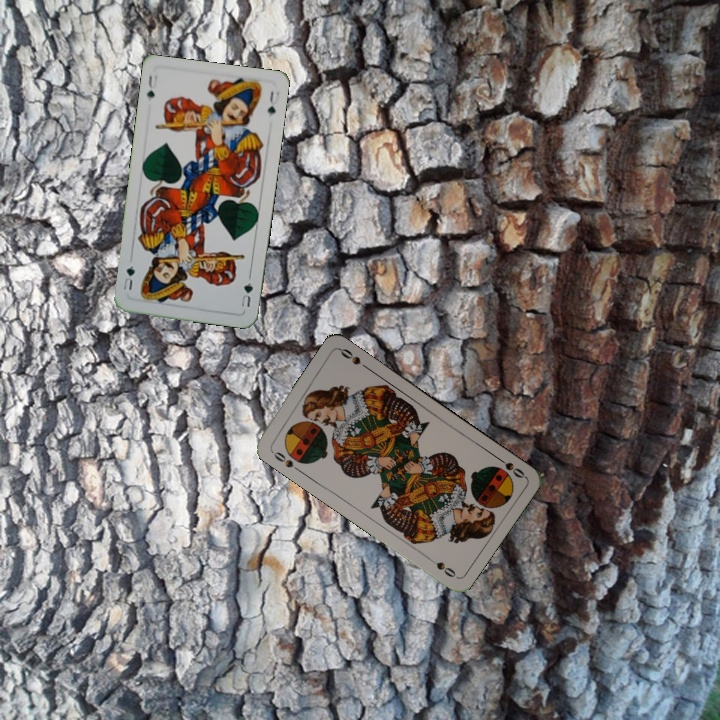GU: (237, 278, 255, 309), (143, 70, 160, 101)
SO: (492, 452, 527, 481), (267, 446, 296, 470)
